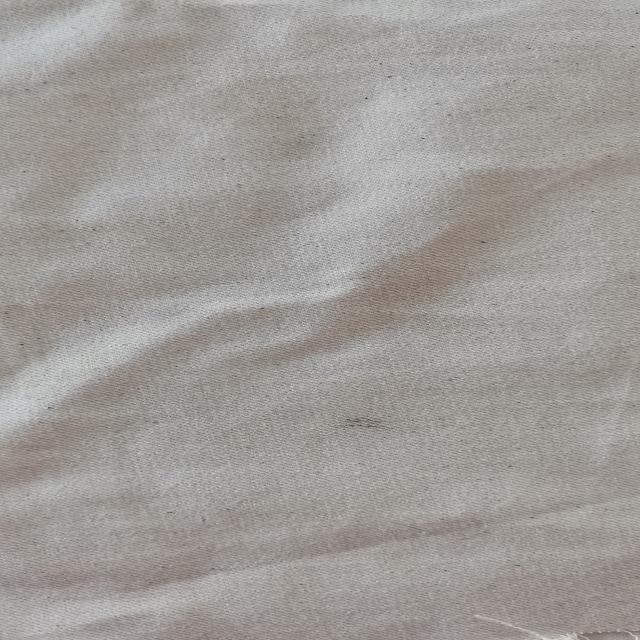taaaches: (332, 403, 417, 442)
